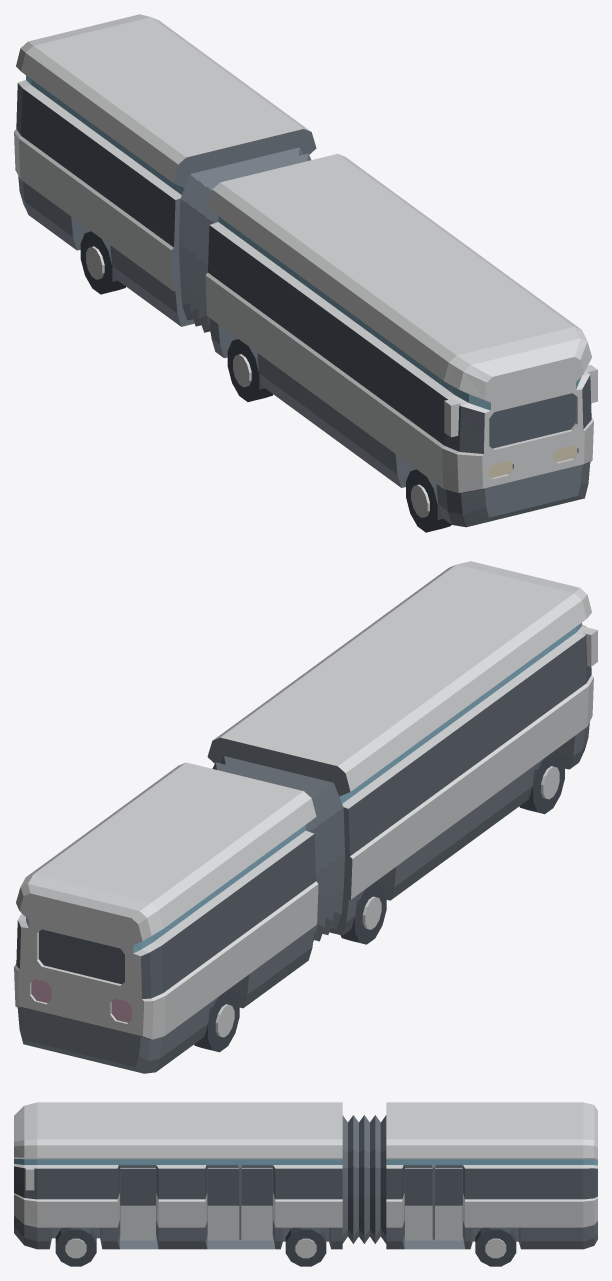
Rendered from bendy.glb.
3 renders of one model, top to bottom at view 1: azimuth 30°, elevation 25°; view 2: azimuth 150°, elevation 25°; view 3: azimuth 270°, elevation 25°, orthographic. The views are drawn at different scales.
Visible parts, largest first — view 1: bendy; view 2: bendy; view 3: bendy.
Boxes of the visible parts, x1=… form: bendy: x1=14, y1=14, x2=597, y2=532; bendy: x1=14, y1=561, x2=597, y2=1073; bendy: x1=14, y1=1102, x2=597, y2=1266.
Bounding box in the file's own units: 3 × 3.8 × 16.
